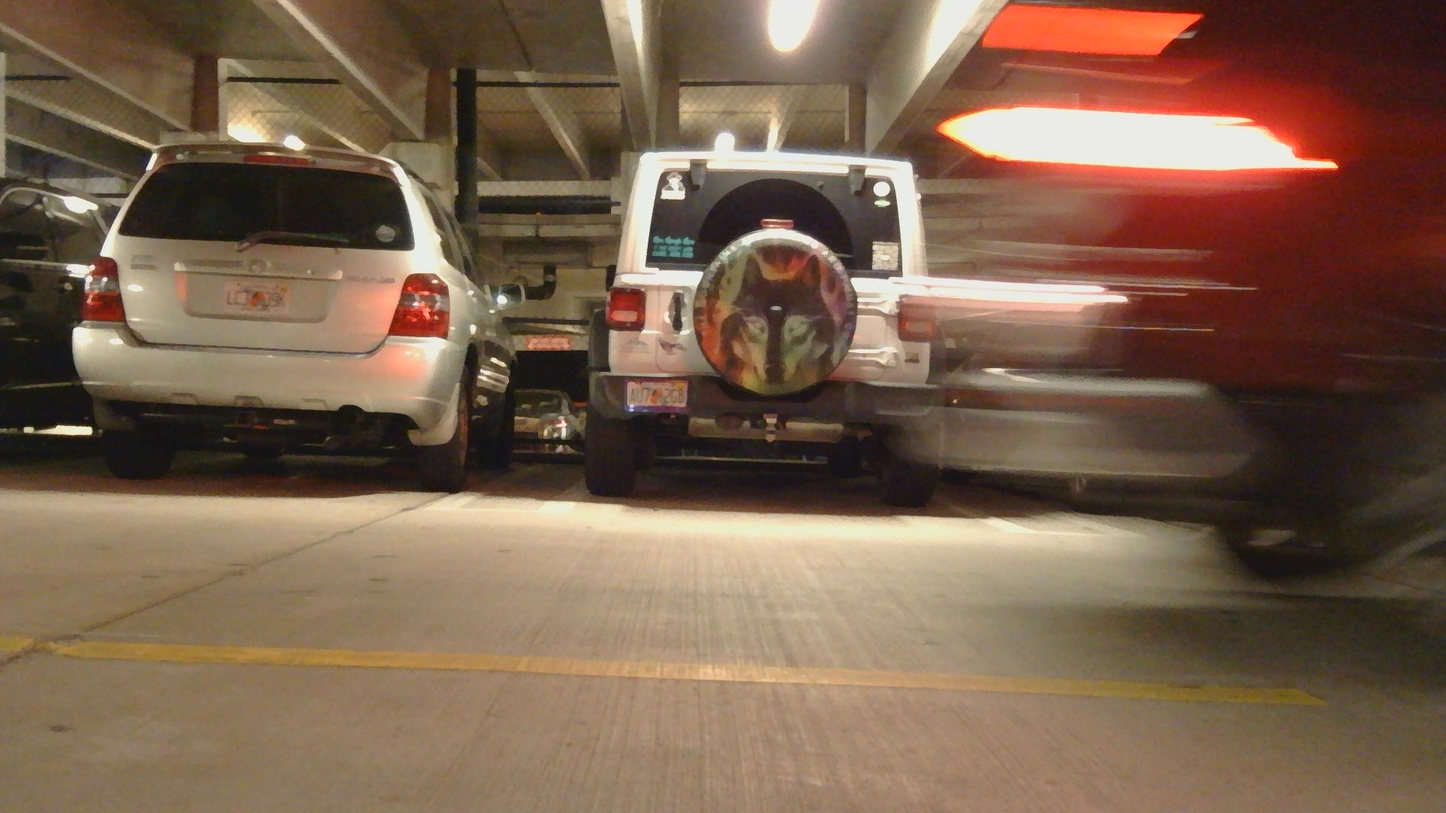occupied_spot: (66, 122, 525, 503), (584, 150, 958, 509), (0, 170, 128, 477)
